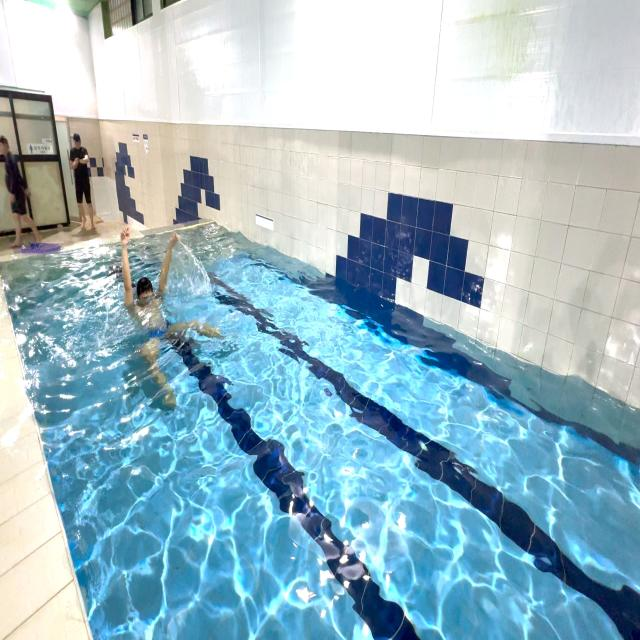Drowning: (105, 214, 217, 413)
